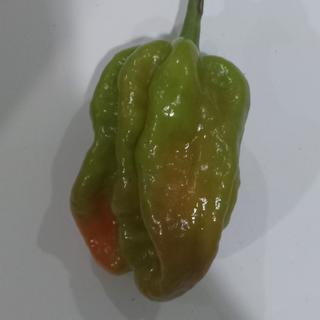Grade-A: (64, 32, 257, 303)
